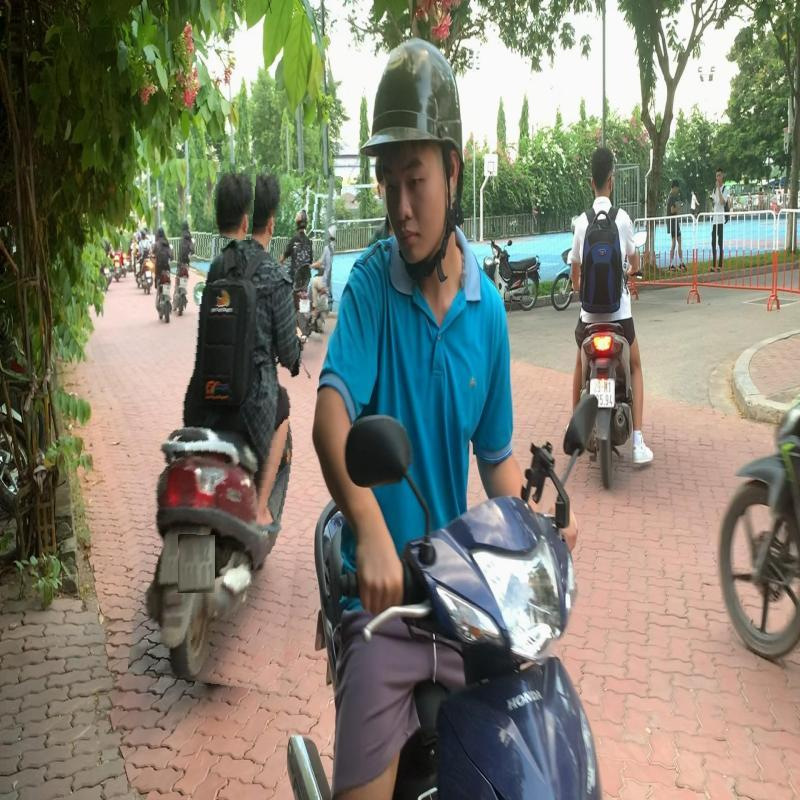licenseplate: (178, 534, 215, 593)
motorcyclist: (142, 162, 328, 688)
nohelmet: (213, 172, 255, 240)
